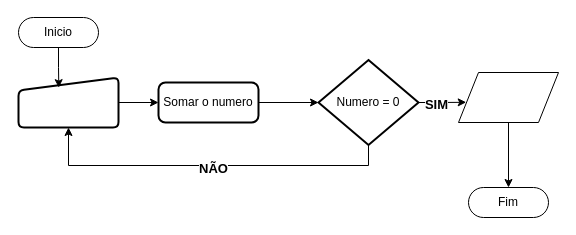
The diagram is 576 pixels wide and 235 high, and some of its shapes have lost their labels. Each missing label, with the centre of its shape:
"Numero" goes at pixel 68 102.
"Soma dos Numeros" goes at pixel 508 97.
